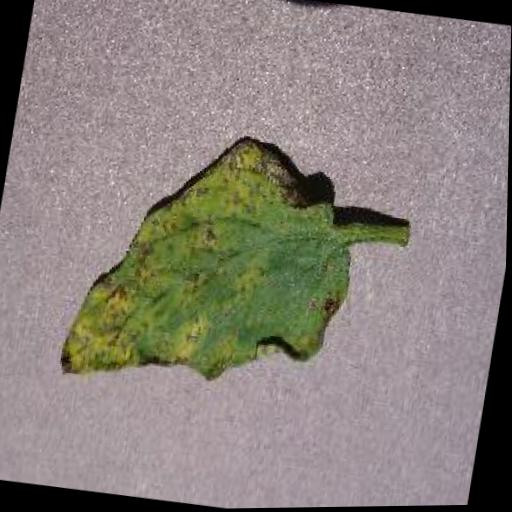Septoria: (57, 117, 371, 415)
